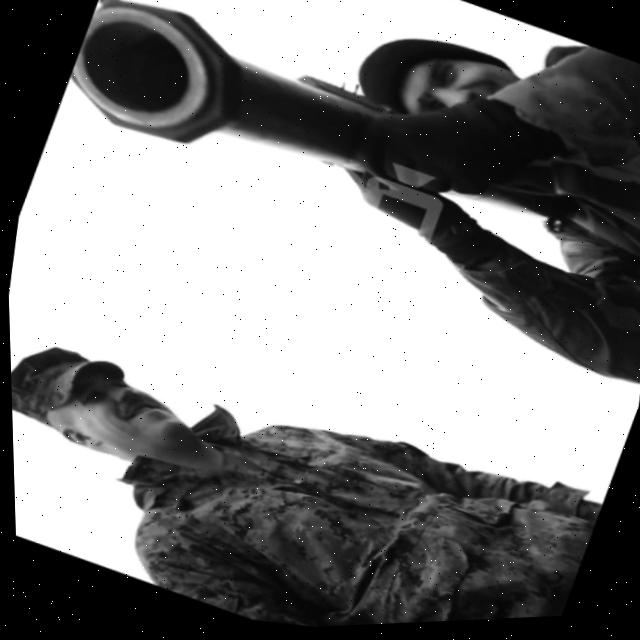rocket: (45, 0, 405, 225)
